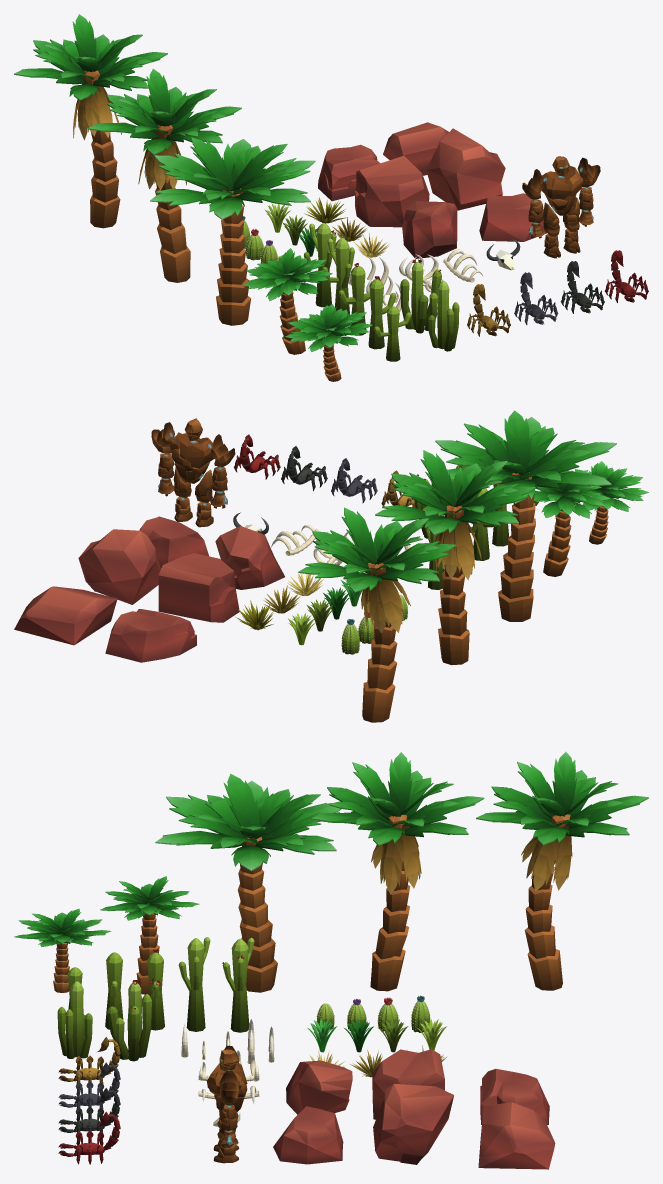
Rendered from low_poly_pack_oasis_-_desert.glb.
3 views of the same model, one above another, from view 1: azimuth 30°, elevation 25°; view 2: azimuth 150°, elevation 25°; view 3: azimuth 270°, elevation 25° (orthographic). The views are drawn at different scales.
Visible parts, largest first — view 1: Palmera.002, Palmera.001, Palmera, Golem.001, Rocas.008, Rocas.002, Palmera.004, Rocas.009, Palmera.003, Rocas.004, Rocas.001, Rocas.003 (+13 smaller); view 2: Palmera.001, Palmera.002, Palmera, Golem.001, Rocas.002, Rocas.008, Rocas.003, Rocas.001, Palmera.004, Rocas.009, Palmera.003, Rocas.004 (+10 smaller); view 3: Palmera.002, Palmera.001, Palmera, Rocas.008, Rocas.003, Palmera.004, Rocas.004, Golem.001, Rocas.009, Palmera.003, Rocas.002, Rocas.001 (+10 smaller).
Part boxes in pixels (x1,y1,x2,y2): Palmera.002: (150,137,315,325); Palmera.001: (14,14,167,228); Palmera: (88,68,241,282); Golem.001: (522,156,600,258); Rocas.008: (426,128,505,210); Rocas.002: (355,155,429,227); Palmera.004: (242,248,332,354); Rocas.009: (402,201,457,258); Palmera.003: (285,304,372,381); Rocas.004: (479,193,546,241); Rocas.001: (318,144,379,201); Rocas.003: (383,122,448,175); Palmera.001: (298,507,456,722); Palmera.002: (435,410,616,621); Palmera: (375,450,535,665); Golem.001: (151,418,235,527); Rocas.002: (158,553,239,622); Rocas.008: (78,529,160,604); Rocas.003: (14,586,117,645); Rocas.001: (105,609,196,662); Palmera.004: (534,470,610,576); Rocas.009: (215,526,284,589); Palmera.003: (568,461,648,544); Rocas.004: (139,516,208,568); Palmera.002: (155,773,341,992); Palmera.001: (476,751,648,990); Palmera: (311,752,484,991); Rocas.008: (373,1083,453,1164); Rocas.003: (478,1102,555,1169); Palmera.004: (100,876,199,994); Rocas.004: (273,1106,343,1164); Golem.001: (207,1045,247,1163); Rocas.009: (286,1060,352,1114); Palmera.003: (14,908,111,992); Rocas.002: (372,1049,444,1119); Rocas.001: (480,1069,549,1124).
Bounding box in the file's own units: 2476 × 1024 × 2782.
Materials: 3 (3 with a texture image).
